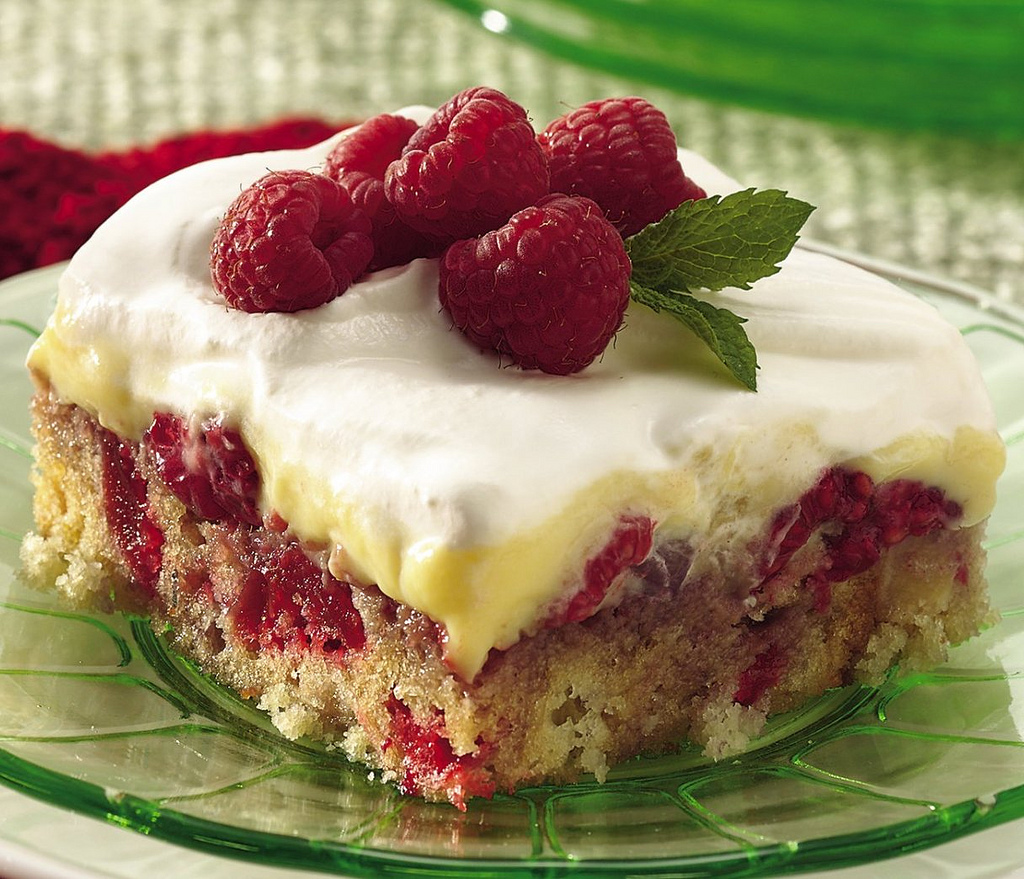slice of bread: (22, 435, 1003, 797)
